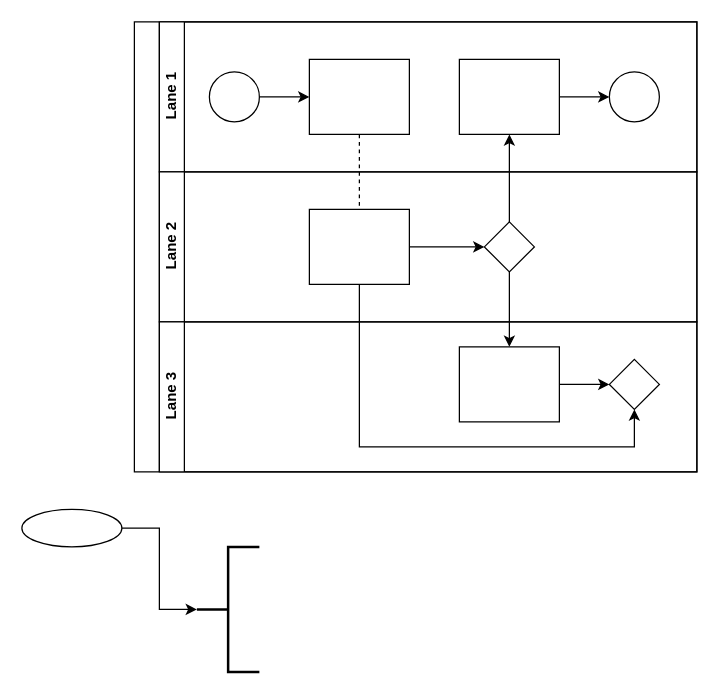
This 719x693 diagram has some shape labels left out. Here are the shapes that lost their labels. From the top down, the box of each, then its label:
(133, 21, 697, 472): Pool
(21, 508, 122, 547): Start
